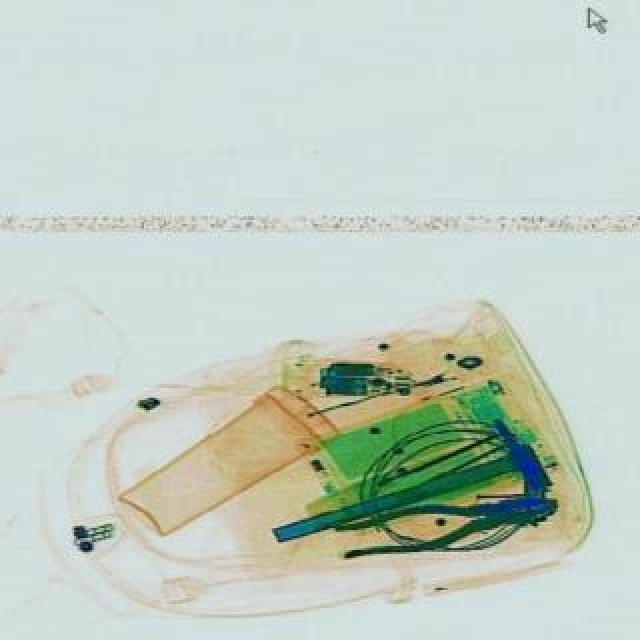wrench: (332, 478, 560, 564)
